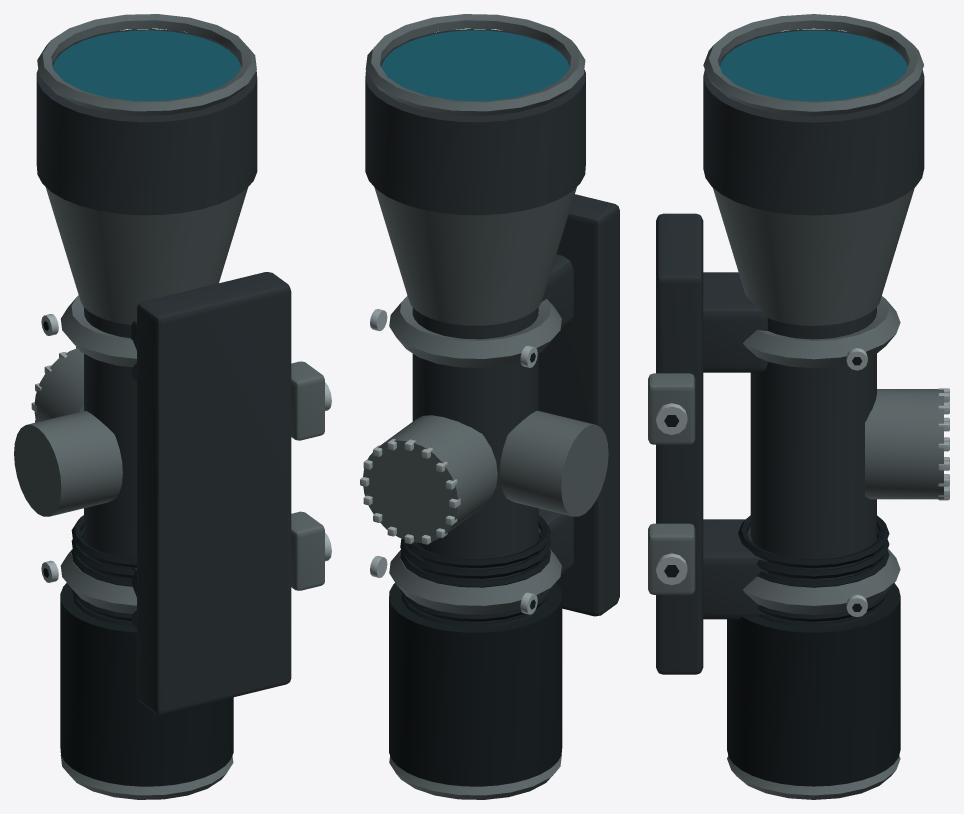
Rendered from scope-2.glb.
3 renders of one model, left to right at view 1: azimuth 30°, elevation 25°; view 2: azimuth 150°, elevation 25°; view 3: azimuth 270°, elevation 25°, orthographic.
Parts seen in each view (by area): view 1: 02_Graphite.019, 01_Cerakote.017, 04_Elastomer.019, 06_OpticalGlass.004, 03_Titanium.019; view 2: 02_Graphite.019, 01_Cerakote.017, 04_Elastomer.019, 06_OpticalGlass.004, 03_Titanium.019; view 3: 02_Graphite.019, 01_Cerakote.017, 04_Elastomer.019, 06_OpticalGlass.004, 03_Titanium.019.
Boxes of the visible parts, left/top/right/bottom form: 02_Graphite.019: left=36, top=29, right=291, bottom=714; 01_Cerakote.017: left=14, top=14, right=324, bottom=799; 04_Elastomer.019: left=43, top=321, right=233, bottom=786; 06_OpticalGlass.004: left=52, top=30, right=240, bottom=101; 03_Titanium.019: left=31, top=314, right=331, bottom=582; 02_Graphite.019: left=365, top=29, right=619, bottom=622; 01_Cerakote.017: left=363, top=14, right=608, bottom=799; 04_Elastomer.019: left=389, top=353, right=562, bottom=786; 06_OpticalGlass.004: left=381, top=30, right=569, bottom=101; 03_Titanium.019: left=360, top=309, right=537, bottom=614; 02_Graphite.019: left=656, top=29, right=924, bottom=674; 01_Cerakote.017: left=648, top=14, right=943, bottom=799; 04_Elastomer.019: left=664, top=357, right=900, bottom=786; 06_OpticalGlass.004: left=720, top=30, right=907, bottom=101; 03_Titanium.019: left=656, top=348, right=949, bottom=617.
Bounding box in the file's own units: 0.0569 × 0.178 × 0.0689.
